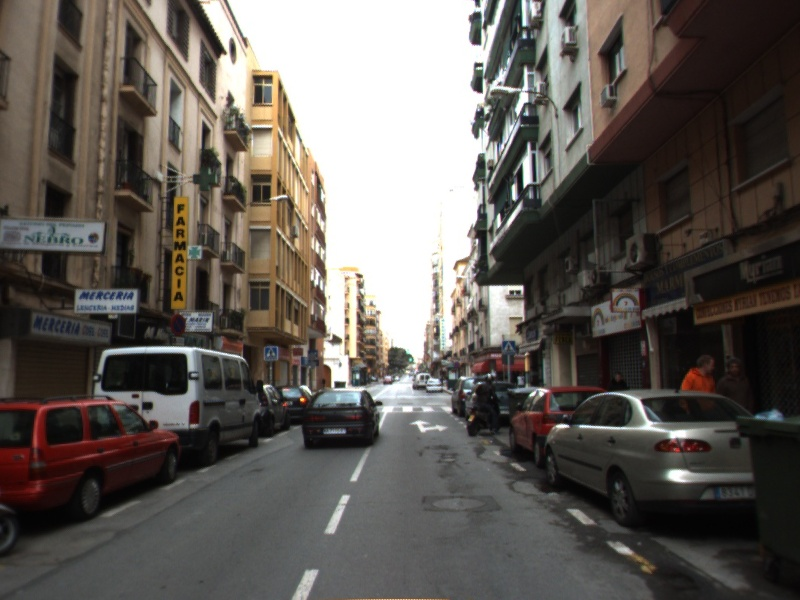STRAIGHT_RIGHT: (407, 418, 450, 435)
